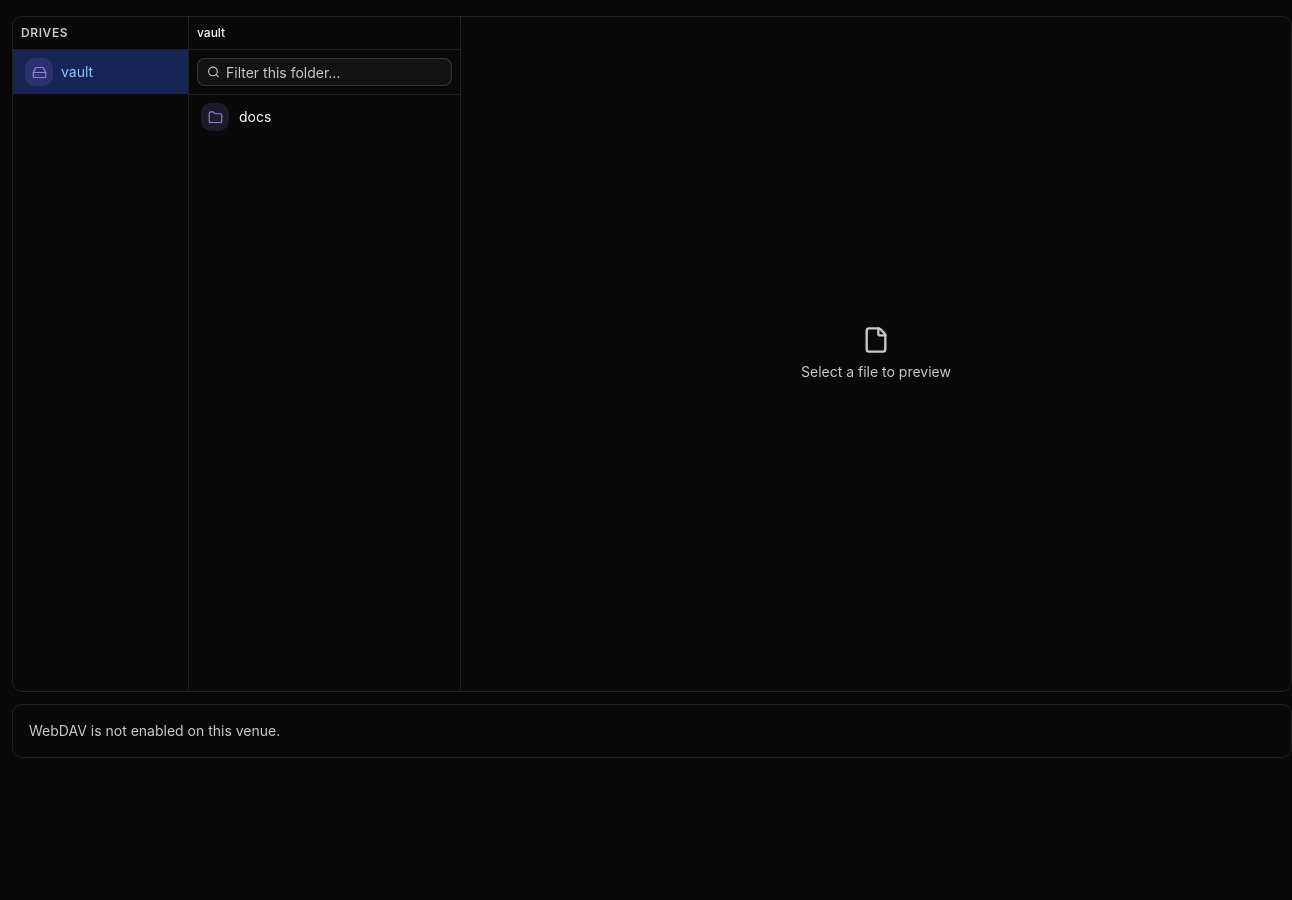
it: FilesExplorer › navigates into a directory and lists its entries
Click the button "docs": {"x": 255, "y": 116} [189,95,460,139]
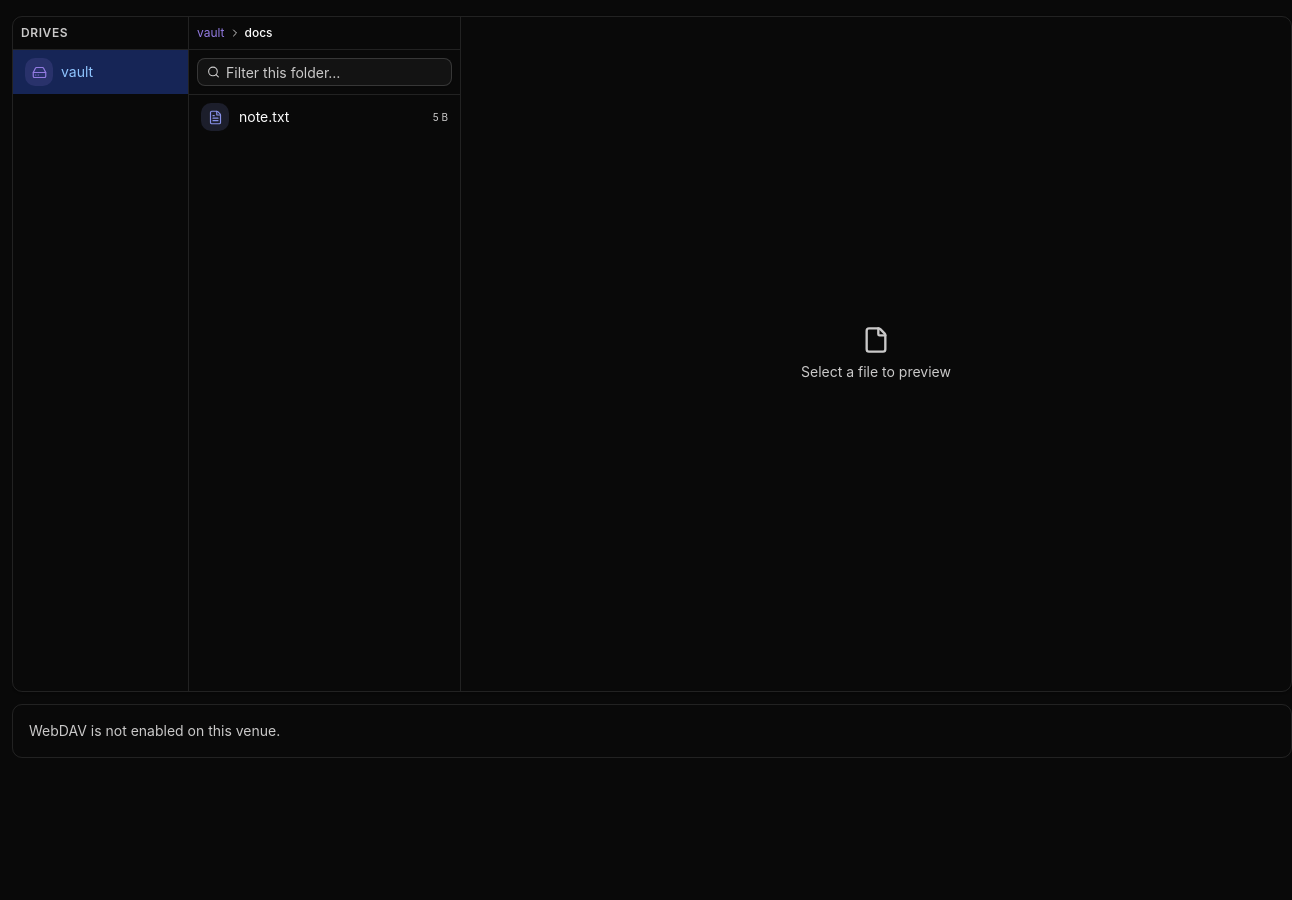
expect the text "note.txt" is shown: met, box [239,108,289,125]
